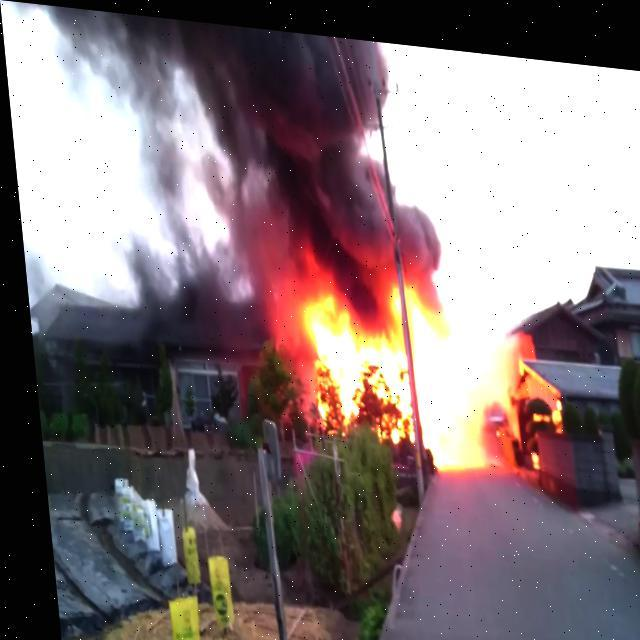Fire: (286, 273, 510, 473)
